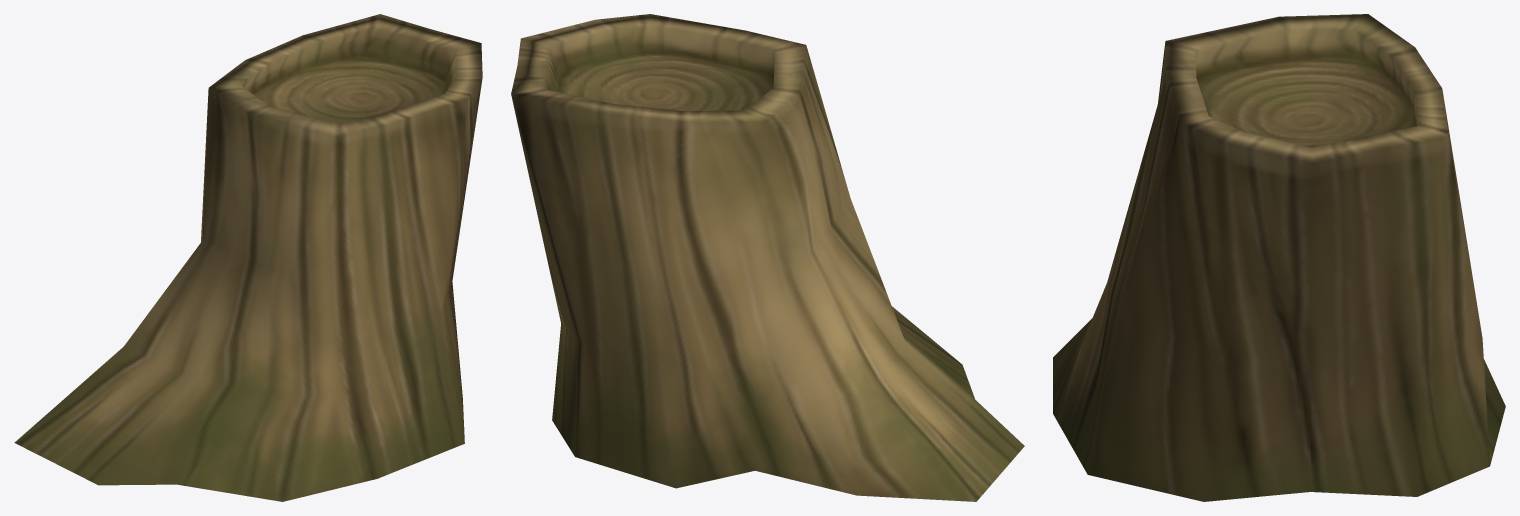
Rendered from 001KirikabuS01.fbx.
3 renders of one model, left to right at view 1: azimuth 30°, elevation 25°; view 2: azimuth 150°, elevation 25°; view 3: azimuth 270°, elevation 25°, orthographic. The views are drawn at different scales.
Parts seen in each view (by area): view 1: pCylinder1; view 2: pCylinder1; view 3: pCylinder1.
Part boxes in pixels (box(x1,y1,x2,y2)): pCylinder1: box(14, 14, 482, 501); pCylinder1: box(511, 14, 1024, 501); pCylinder1: box(1053, 14, 1505, 501).
Size of the model in its own units: 2.81 by 1.85 by 2.02.
Materials: 1 (1 with a texture image).
